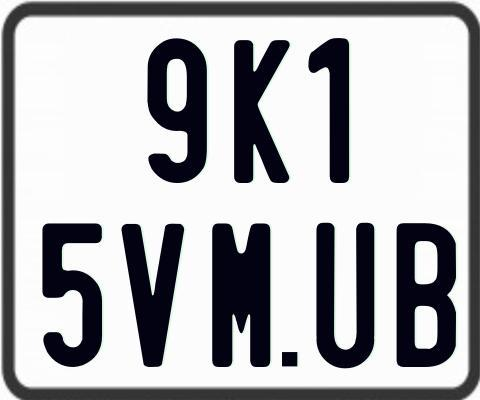1: (305, 35, 346, 180)
5: (42, 221, 103, 371)
9: (145, 35, 206, 180)
B: (394, 222, 455, 369)
K: (231, 40, 289, 184)
M: (211, 221, 270, 371)
U: (313, 222, 375, 369)
V: (119, 224, 186, 367)
